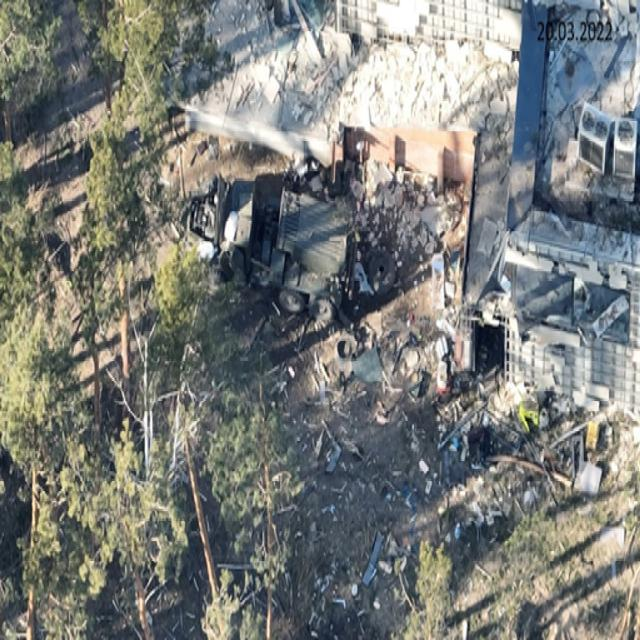MLRS: (185, 175, 357, 329)
